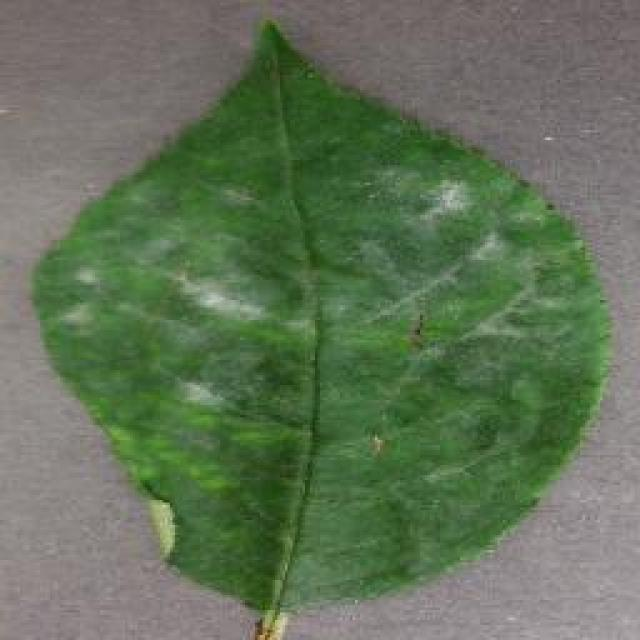Cherry___Powdery_mildew: (68, 86, 532, 441)
